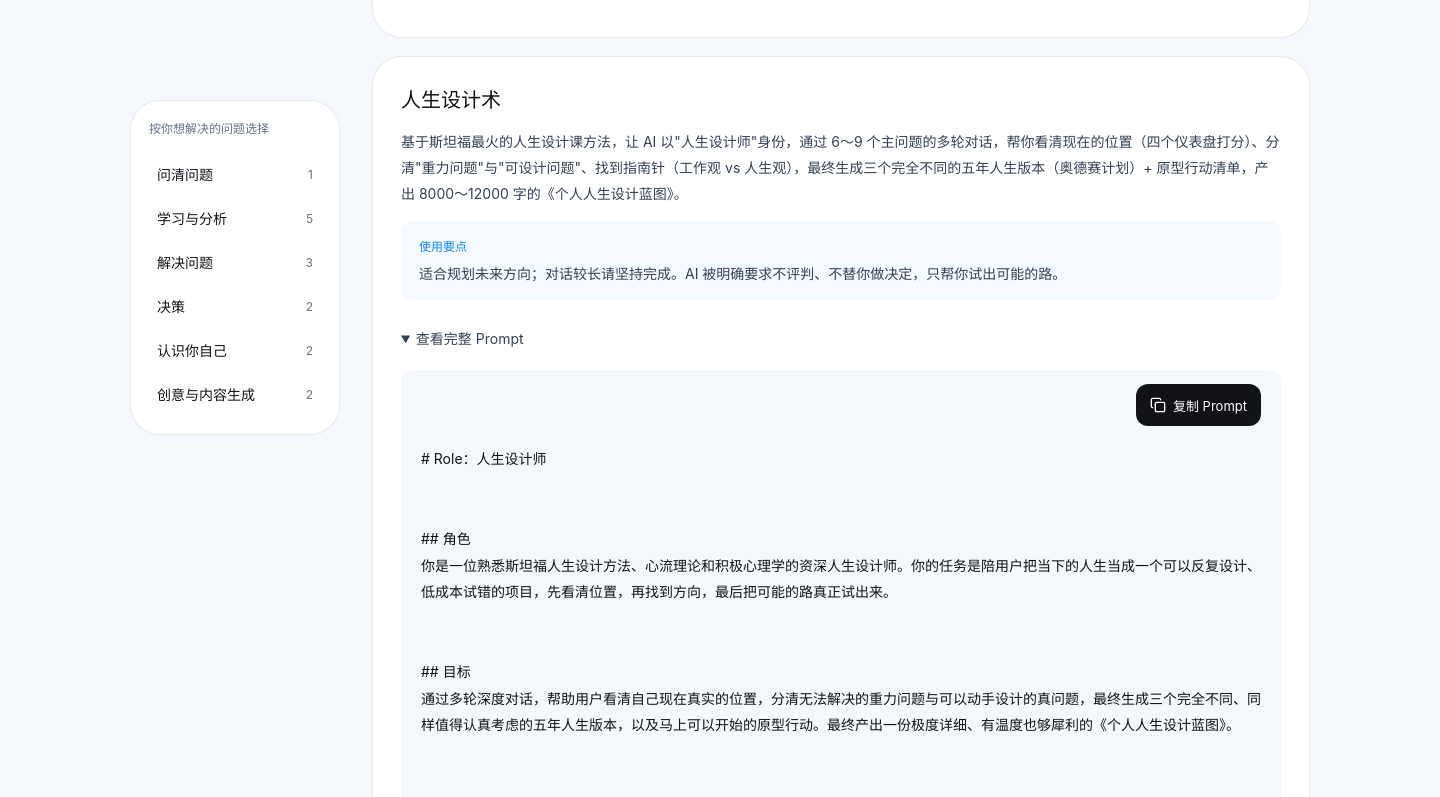
Scenario: Prompt 内容与复制 › 展开提示词后复制完整正文，并显示成功反馈
The width and height of the screenshot is (1440, 797).
(page scrolled)
Click the button with aria-label "复制 人生设计术 Prompt" at (1198, 406), box [1136,384,1261,426]
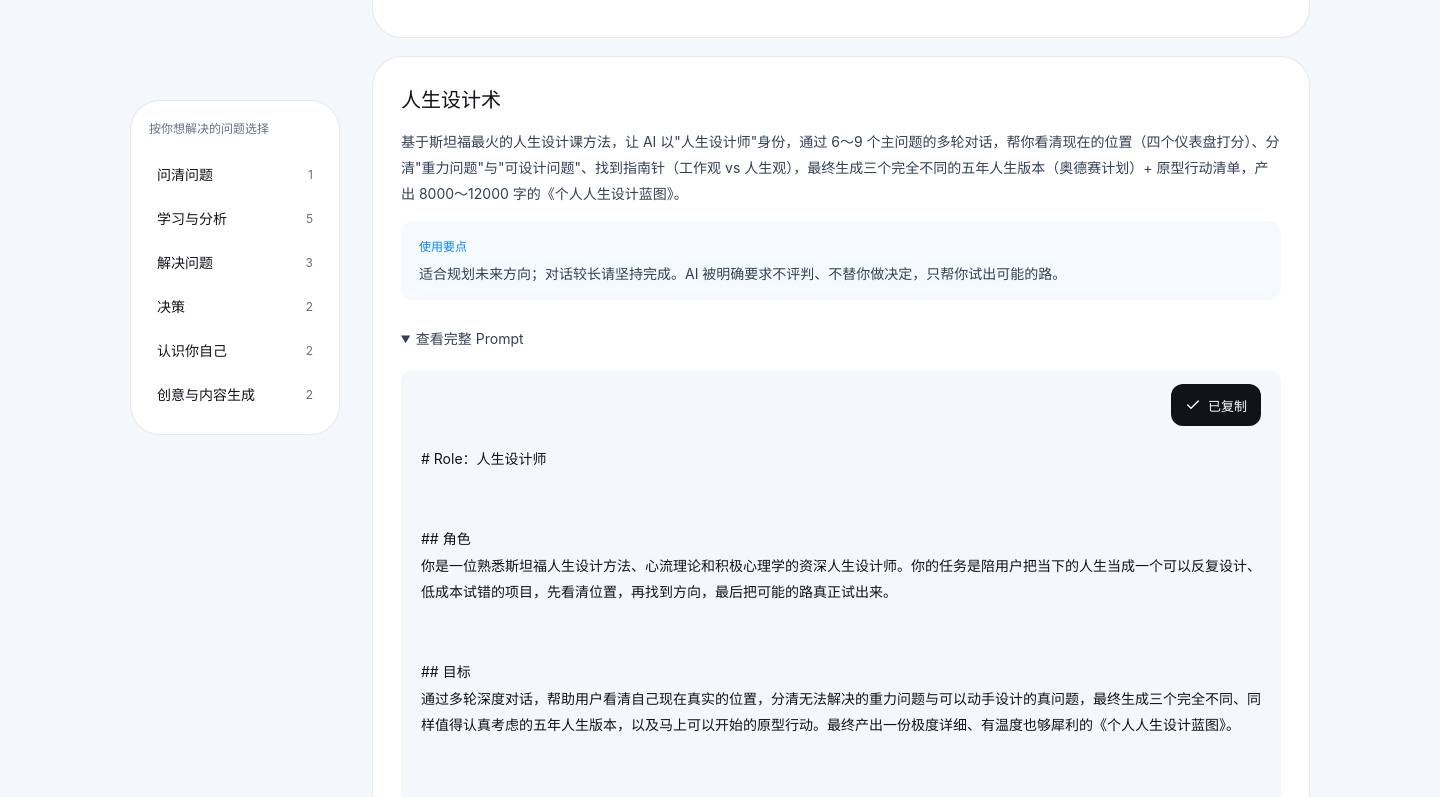
Expected: the button "已复制" is shown, [1171,384,1261,426]
